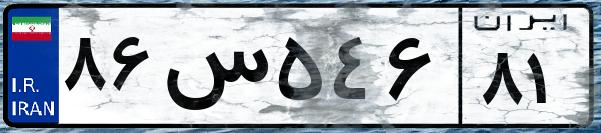1: (525, 38, 570, 115)
4: (330, 28, 385, 110)
5: (270, 28, 330, 110)
6: (385, 28, 445, 110), (110, 28, 158, 98)
8: (57, 26, 110, 100), (475, 38, 525, 113)
س: (158, 20, 270, 120)
